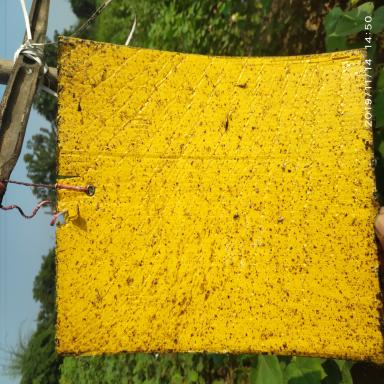pbw: (276, 217, 283, 222)
